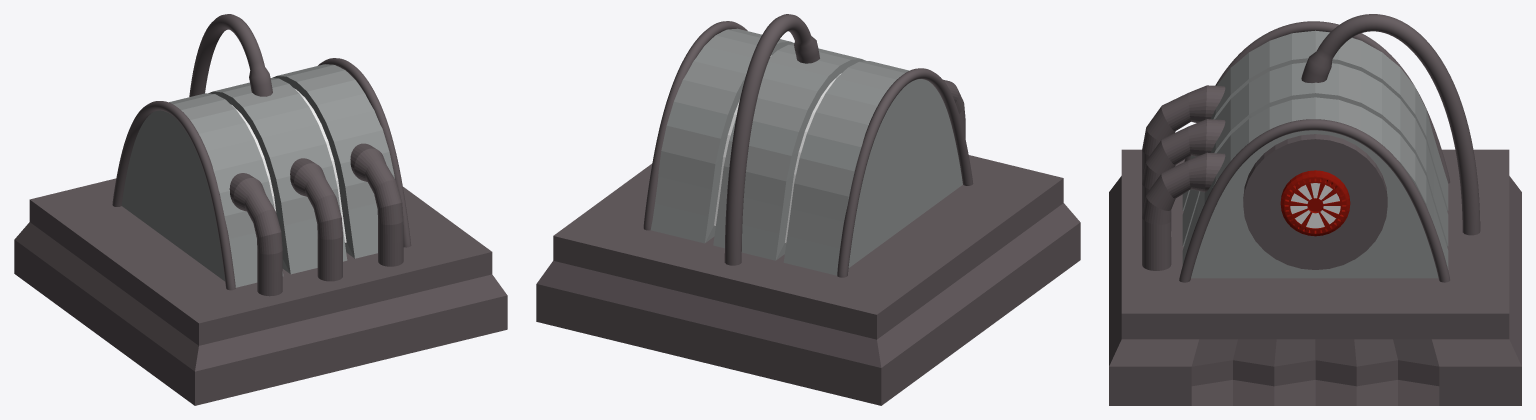
Rendered from FurnaceLevel5.fbx.
3 renders of one model, left to right at view 1: azimuth 30°, elevation 25°; view 2: azimuth 150°, elevation 25°; view 3: azimuth 270°, elevation 25°, orthographic. The views are drawn at different scales.
Visible parts, largest first — view 1: Cube, Cylinder, Cylinder.005, Cylinder.003, Cylinder.004, NurbsPath.001, NurbsPath.002, NurbsPath; view 2: Cube, Cylinder, NurbsPath.002, NurbsPath.001, NurbsPath; view 3: Cube, Cylinder, Cylinder.001, NurbsPath.002, NurbsPath, Cylinder.005, Cylinder.002, Cylinder.003, Cylinder.004, NurbsPath.001.
Boxes of the visible parts, <box> form: Cube: <box>14,178,507,405</box>; Cylinder: <box>121,64,394,287</box>; Cylinder.005: <box>350,143,403,266</box>; Cylinder.003: <box>290,158,342,281</box>; Cylinder.004: <box>229,173,282,296</box>; NurbsPath.001: <box>112,101,235,290</box>; NurbsPath.002: <box>189,14,272,96</box>; NurbsPath: <box>318,58,411,247</box>; Cube: <box>536,155,1080,405</box>; Cylinder: <box>650,28,962,275</box>; NurbsPath.002: <box>724,14,819,265</box>; NurbsPath.001: <box>837,68,973,277</box>; NurbsPath: <box>643,21,747,230</box>; Cube: <box>1109,149,1521,405</box>; Cylinder: <box>1182,30,1448,278</box>; Cylinder.001: <box>1243,134,1387,269</box>; NurbsPath.002: <box>1301,14,1480,235</box>; NurbsPath: <box>1179,119,1449,282</box>; Cylinder.005: <box>1142,152,1225,270</box>; Cylinder.002: <box>1280,170,1350,236</box>; Cylinder.003: <box>1142,119,1225,230</box>; Cylinder.004: <box>1142,85,1225,182</box>; NurbsPath.001: <box>1184,21,1449,183</box>.
Size of the model in its own units: 1.97 by 1.6 by 1.97.
